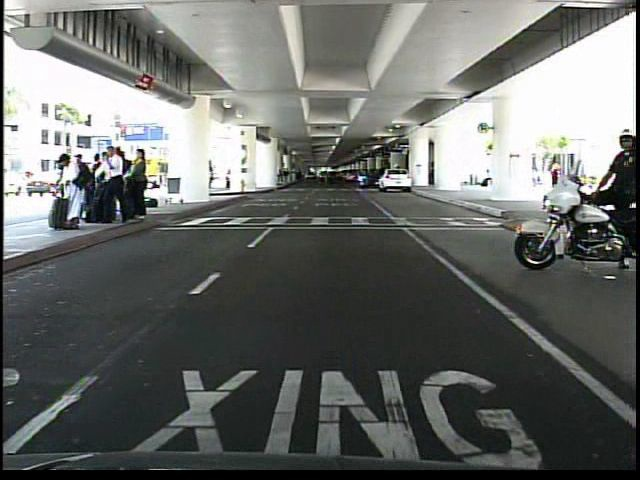person: (594, 127, 640, 272), (480, 162, 493, 194)
